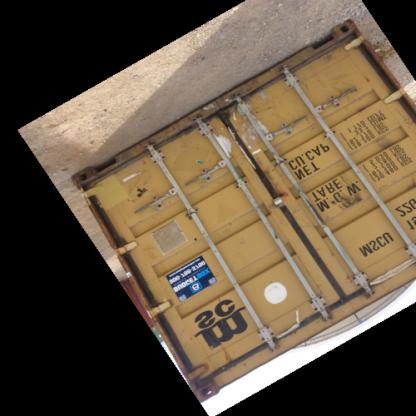Damage: (276, 279, 373, 345), (188, 106, 262, 188), (311, 66, 373, 126), (144, 236, 204, 278), (115, 158, 161, 212), (194, 350, 243, 396), (327, 172, 360, 223)
